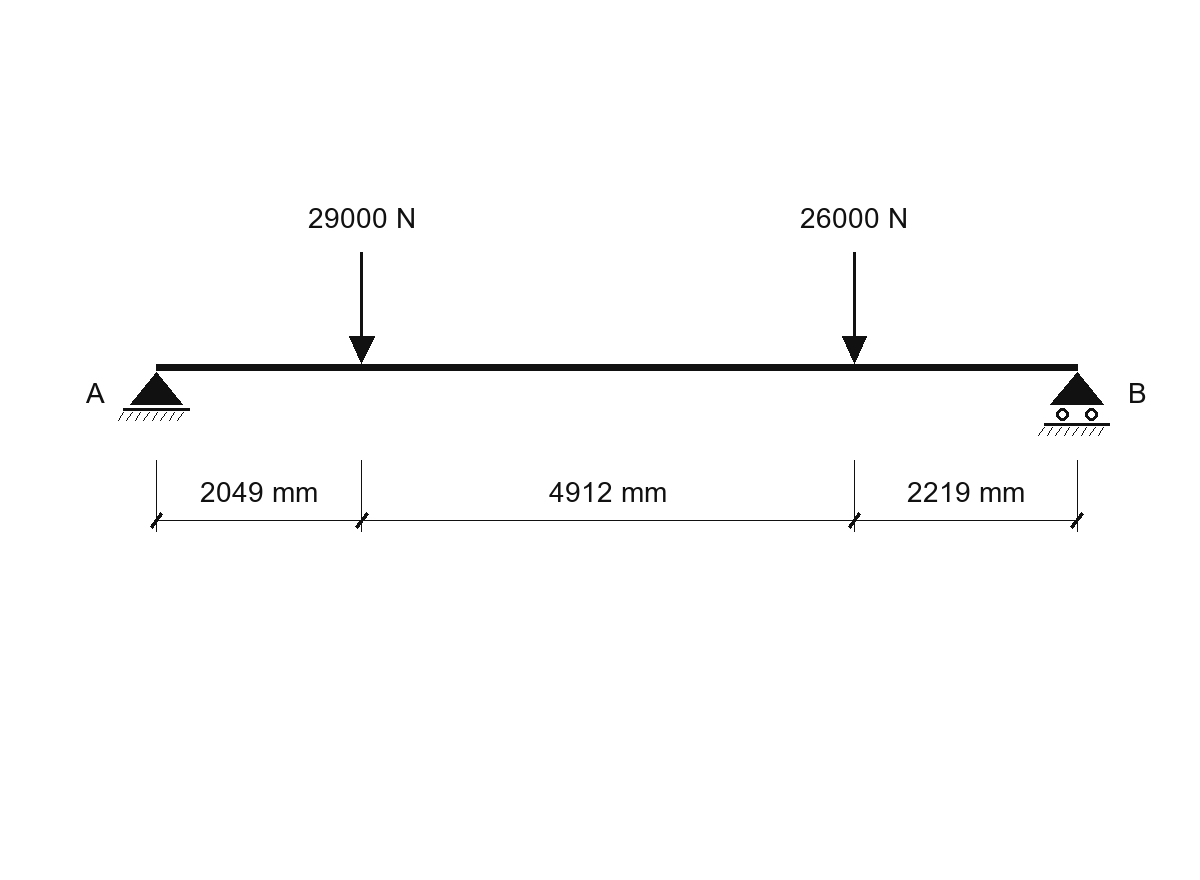pin_support: (118, 372, 190, 421)
point_load: (349, 252, 375, 364), (842, 252, 867, 364)
roller_support: (1038, 372, 1110, 436)
